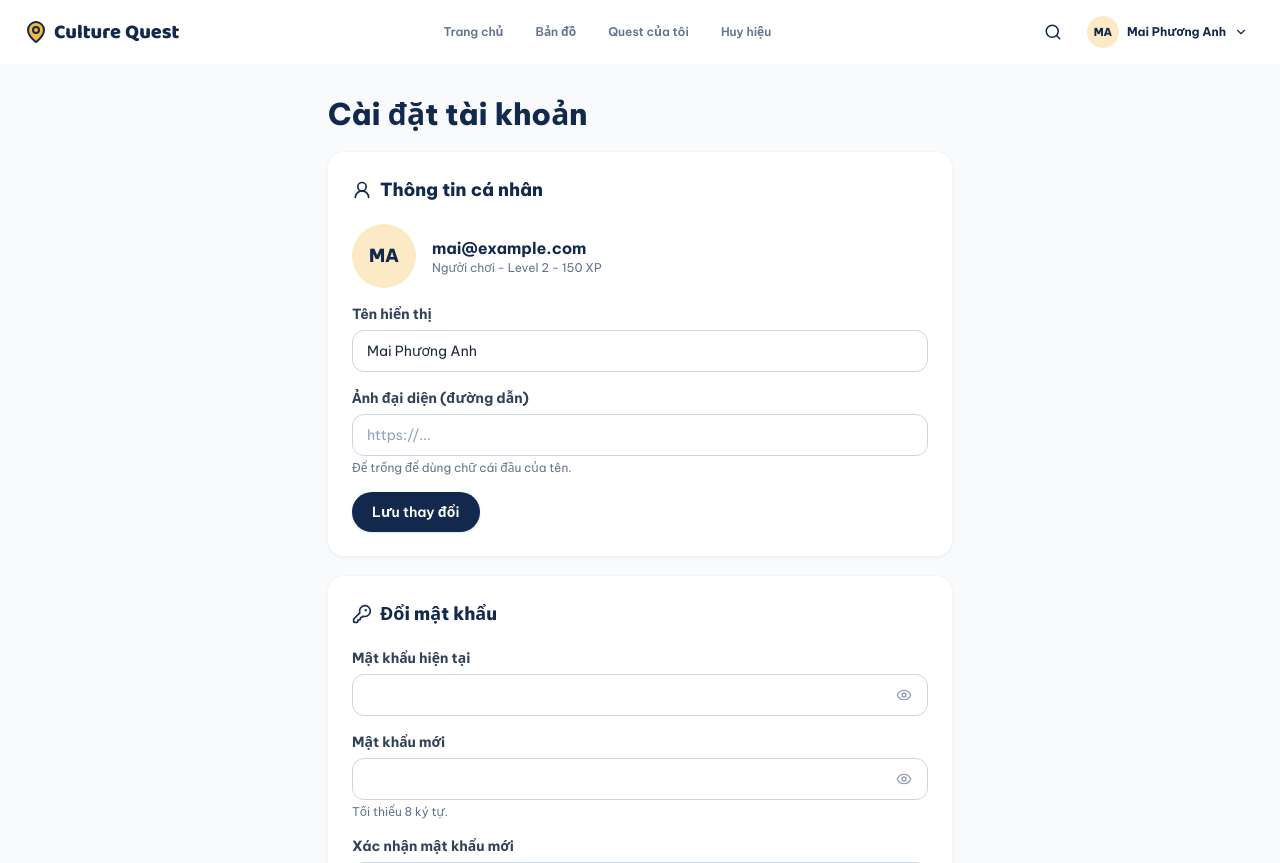
it: AccountPage › saves the display name and avatar
The image size is (1280, 863).
Replace the text in the field labelled "Tên hiển thị" with "  Mai Anh " at (640, 351), box [352,330,928,372]
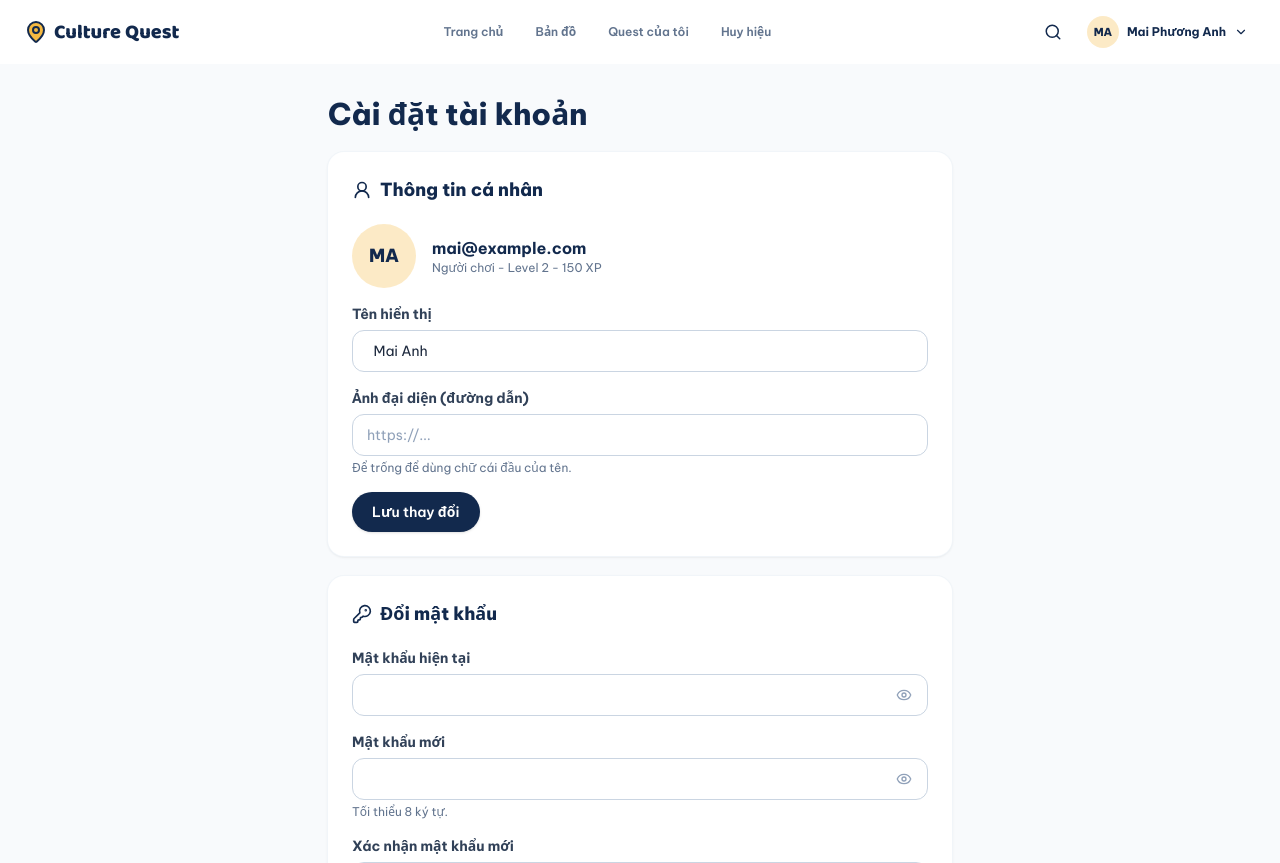
Type "https://cdn.example.com/a.png" into the field labelled "Ảnh đại diện (đường dẫn)" at (640, 435), box [352,414,928,456]
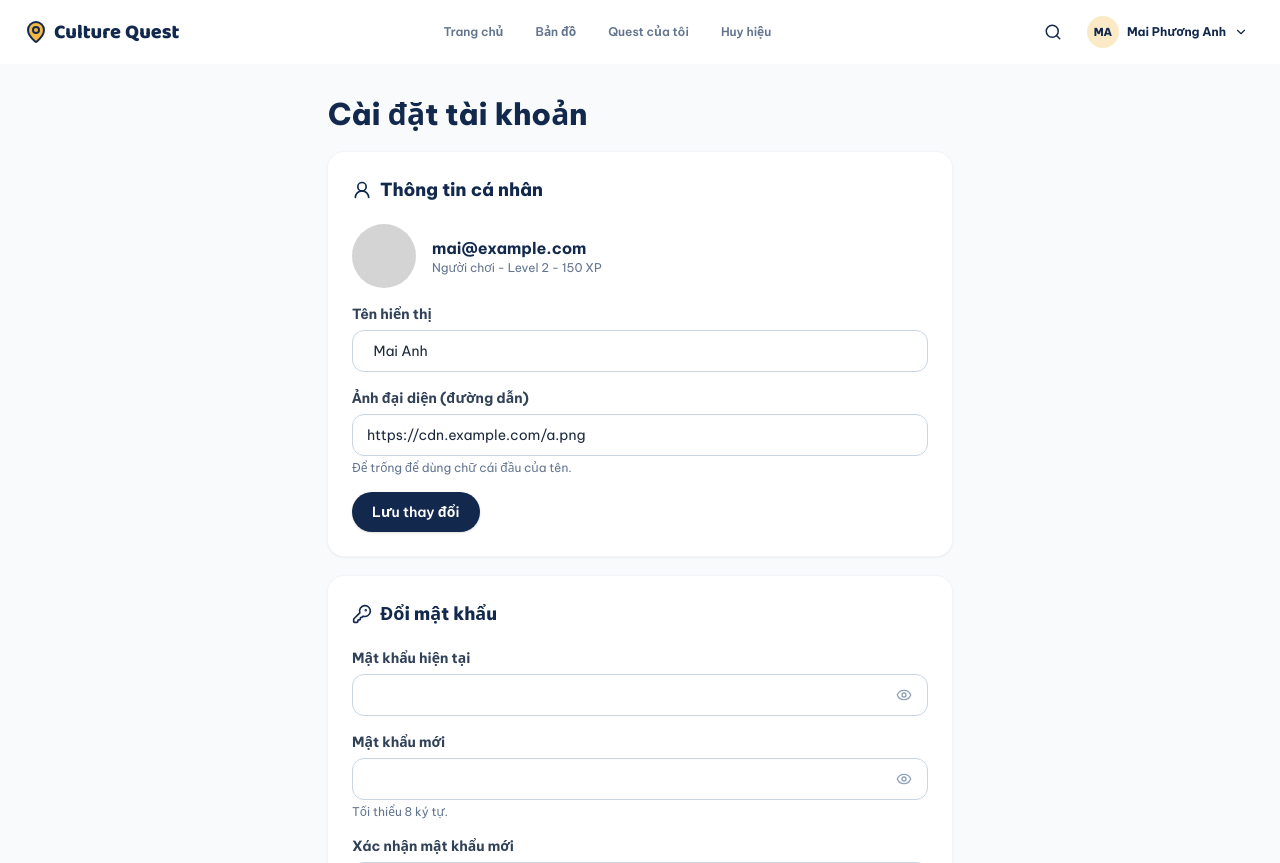
Click the button "Lưu thay đổi" at (416, 512), box [352,492,480,532]
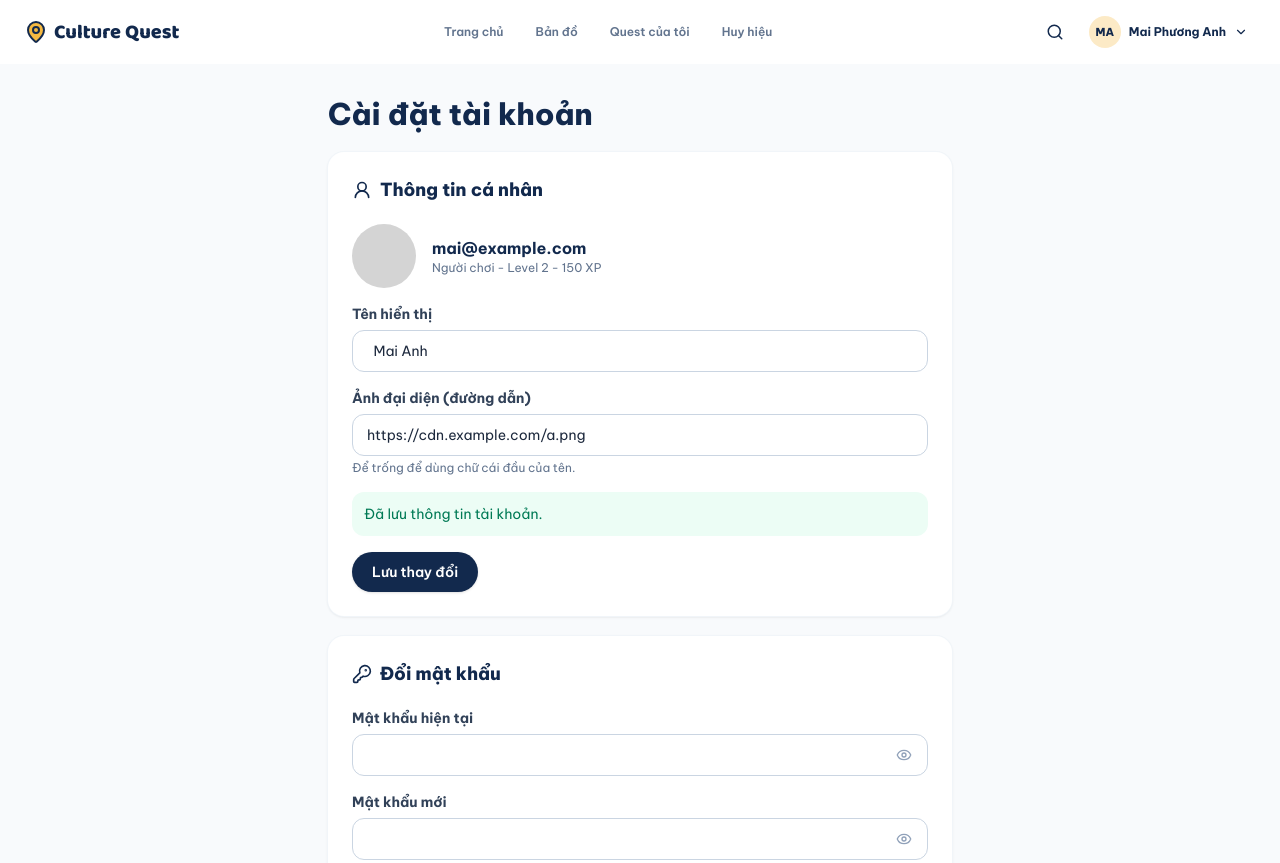
expect the message shows "Đã lưu": met, box [364,505,542,523]
